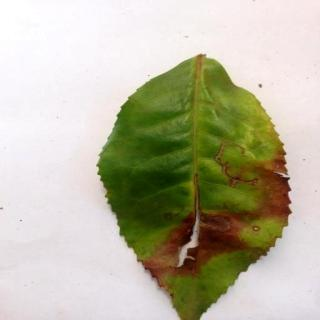Algal Leaf: (95, 54, 293, 320)
